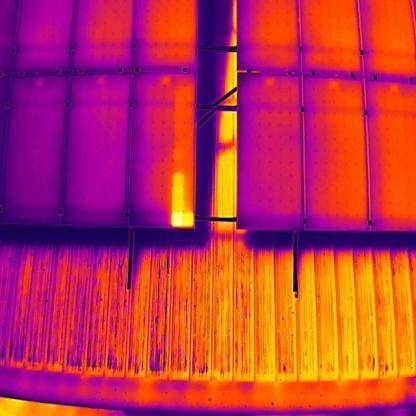anomaly: (171, 169, 198, 232)
